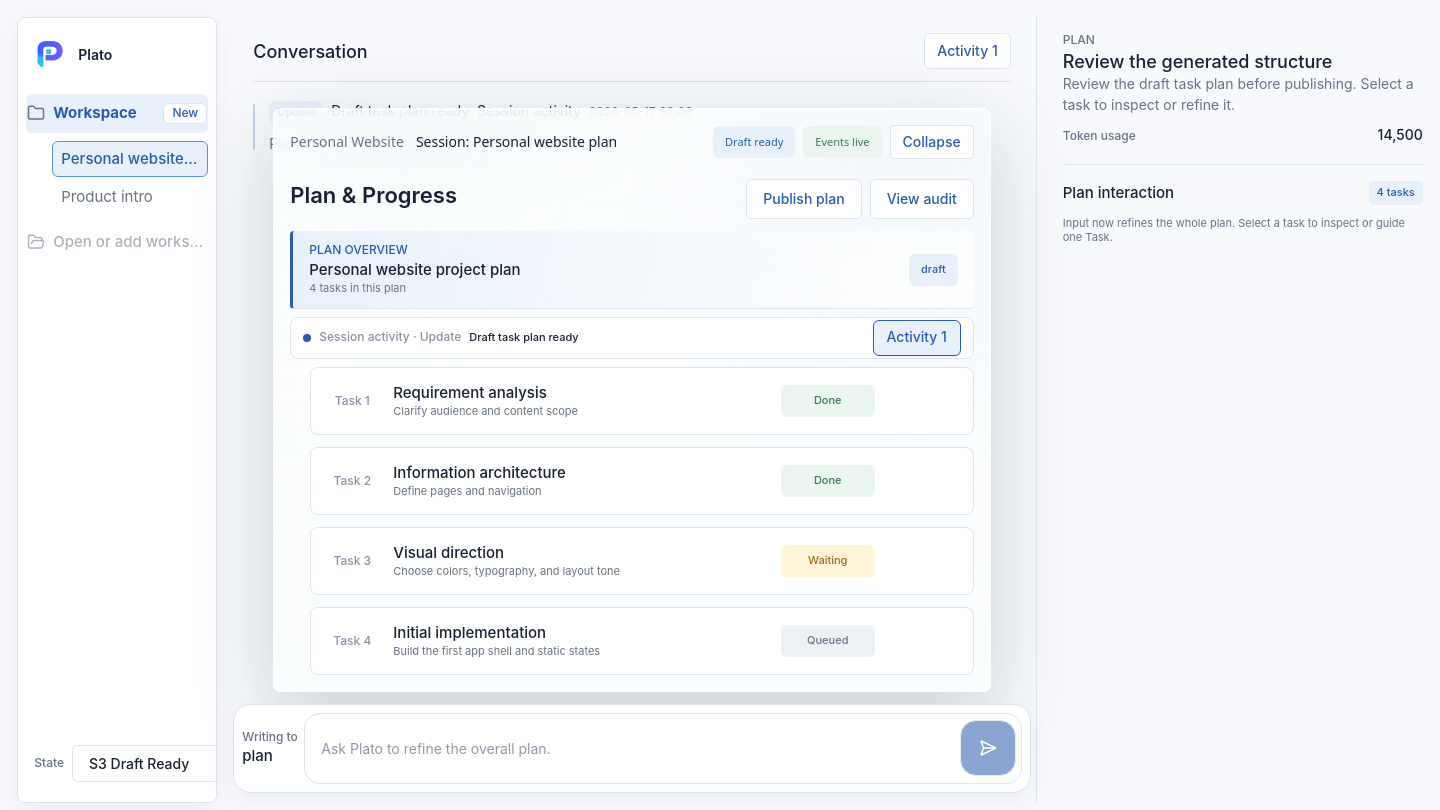
it: App › renames the active session by double-clicking it in the sidebar
Double-click the button "Personal website plan" at (130, 159), box left=52, top=141, right=208, bottom=177
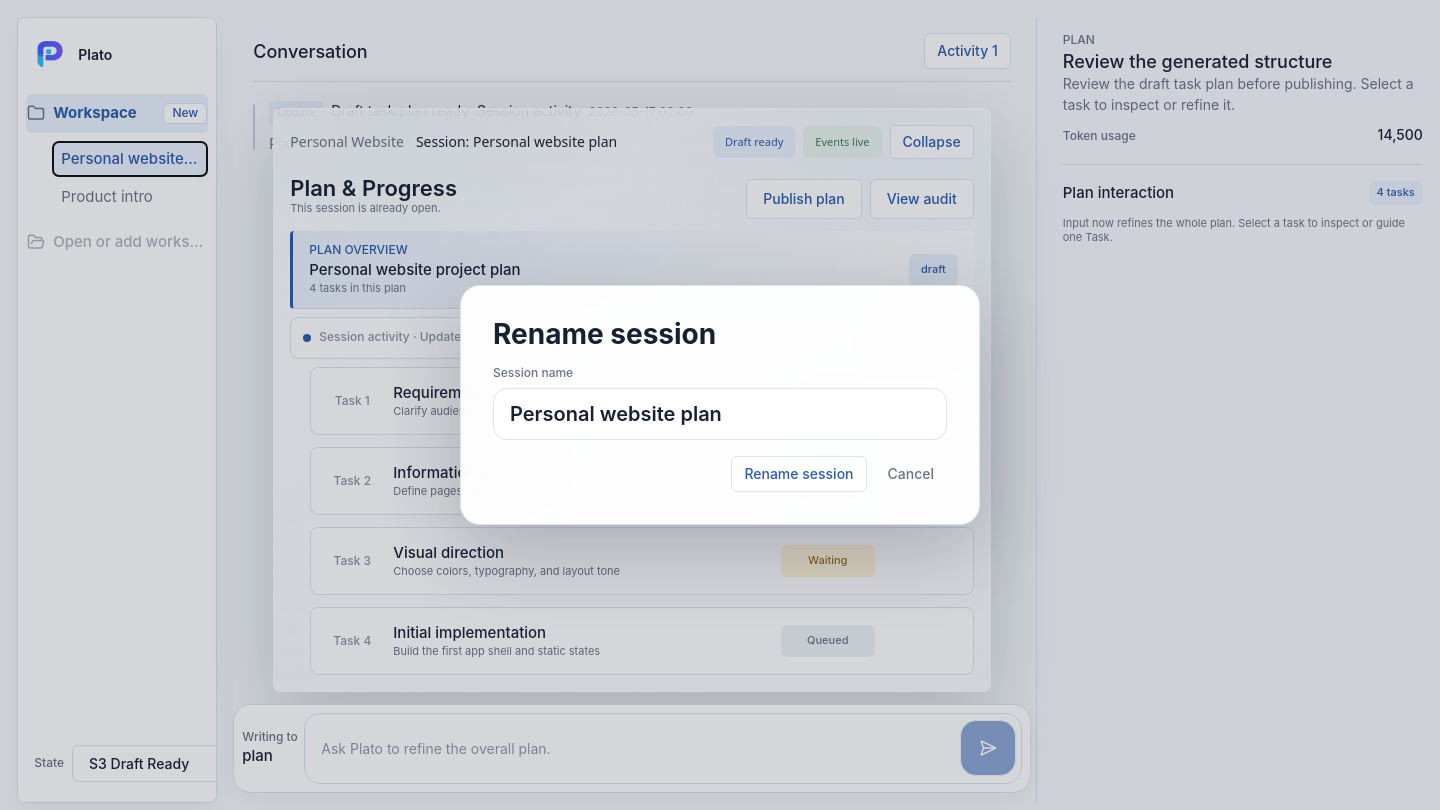
Replace the text in the field labelled "Session name" with "Renamed session" at (720, 414), box left=493, top=388, right=947, bottom=440
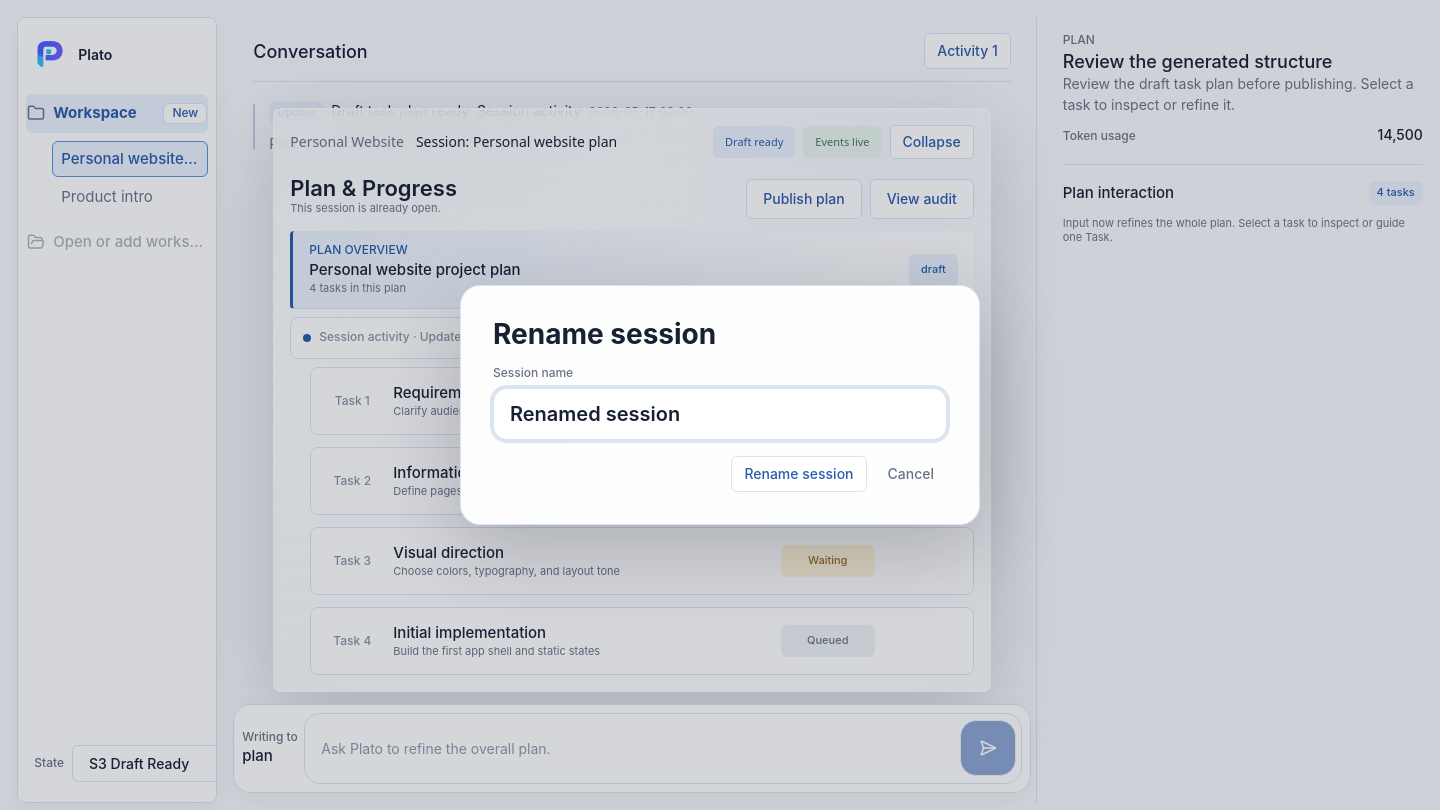
Click the button "Rename session" at (799, 474), box left=731, top=456, right=866, bottom=492
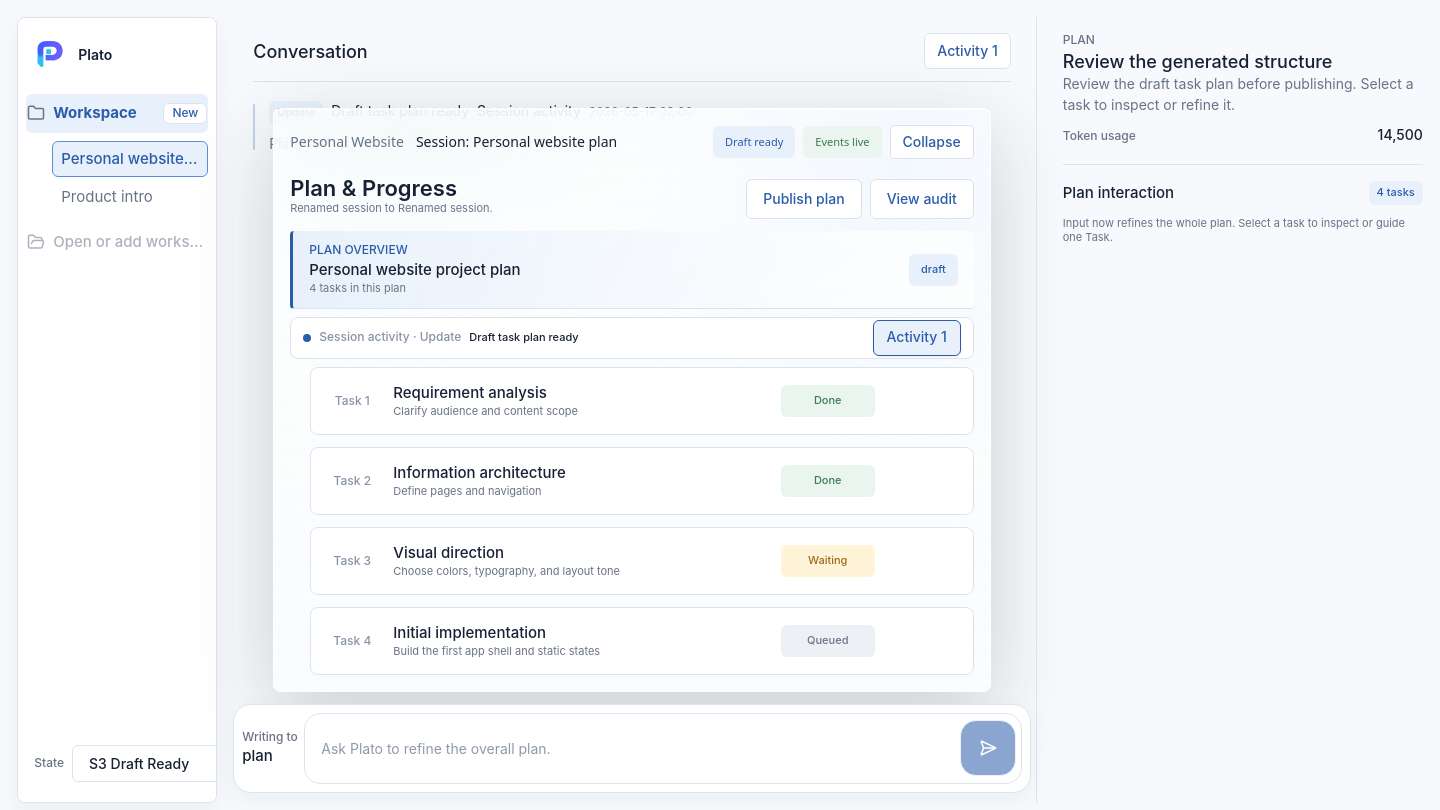
Now the text "Renamed session to Renamed session." is shown, box left=290, top=202, right=493, bottom=216
